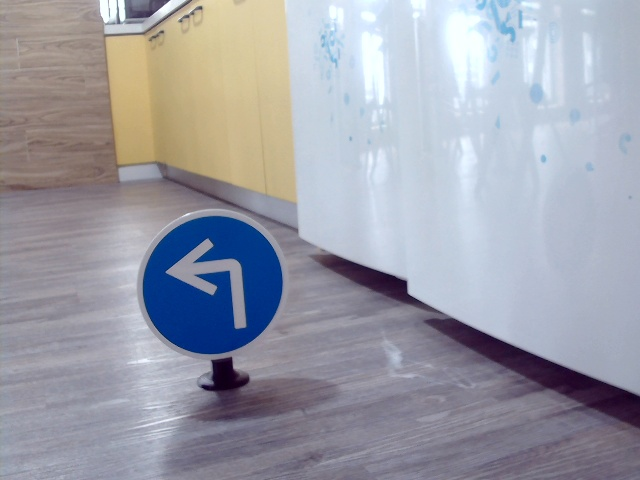turn_left: (164, 236, 251, 330)
